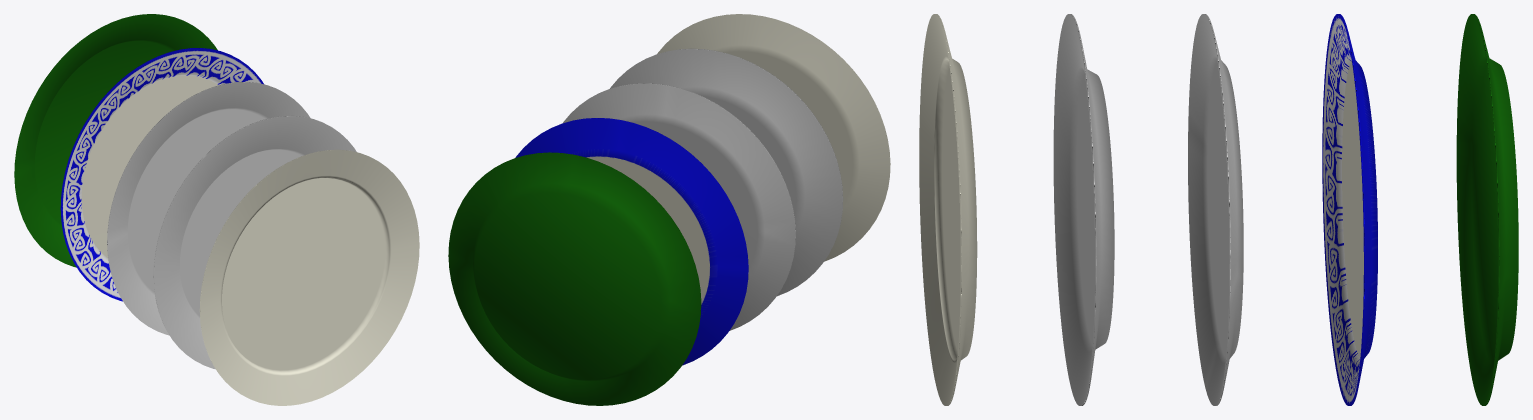
The model's file is DesignerPlates.fbx.
3 renders of one model, left to right at view 1: azimuth 30°, elevation 25°; view 2: azimuth 150°, elevation 25°; view 3: azimuth 270°, elevation 25°, orthographic. The views are drawn at different scales.
Parts seen in each view (by area): view 1: Black&WhiteFloral.001, SquaresPlate, HexPlate, Black&WhiteStrokes.001, SwirlPlate; view 2: HexPlate, SquaresPlate, Black&WhiteStrokes.001, Black&WhiteFloral.001, SwirlPlate; view 3: HexPlate, Black&WhiteStrokes.001, Black&WhiteFloral.001, SquaresPlate, SwirlPlate.
Boxes of the visible parts, bbox=[...] form: Black&WhiteFloral.001: bbox=[199, 149, 419, 405]; SquaresPlate: bbox=[107, 82, 310, 335]; HexPlate: bbox=[14, 14, 217, 267]; Black&WhiteStrokes.001: bbox=[153, 115, 356, 369]; SwirlPlate: bbox=[60, 48, 263, 301]; HexPlate: bbox=[448, 152, 701, 405]; SquaresPlate: bbox=[563, 83, 795, 330]; Black&WhiteStrokes.001: bbox=[610, 48, 843, 296]; Black&WhiteFloral.001: bbox=[657, 14, 890, 261]; SwirlPlate: bbox=[515, 118, 748, 365]; HexPlate: bbox=[1456, 14, 1518, 405]; Black&WhiteStrokes.001: bbox=[1053, 14, 1114, 405]; Black&WhiteFloral.001: bbox=[919, 14, 977, 405]; SquaresPlate: bbox=[1188, 14, 1243, 405]; SwirlPlate: bbox=[1322, 14, 1377, 405].
Size of the model in its own units: 29.07 by 29.21 by 44.62.
